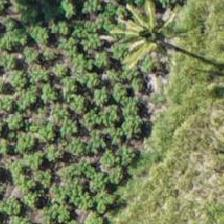coconut_tree: (100, 0, 190, 83)
